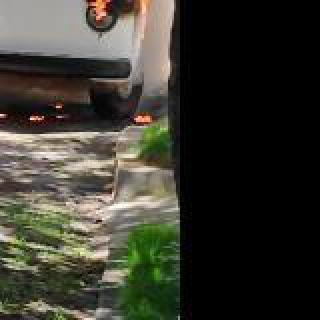fire: (86, 0, 152, 24), (134, 114, 152, 122), (28, 116, 44, 120)
